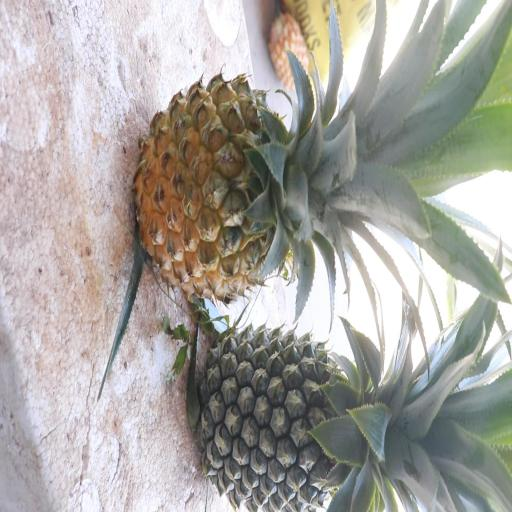Pineapple - v8 v1: (130, 76, 437, 306)
